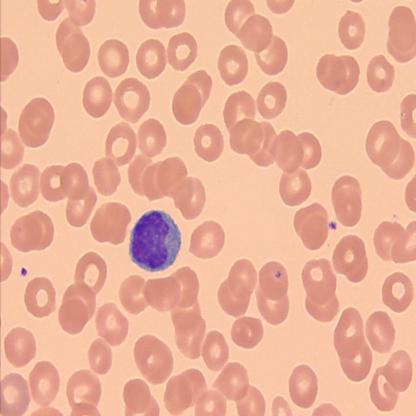Atypical lymphocyte: (128, 211, 183, 272)
